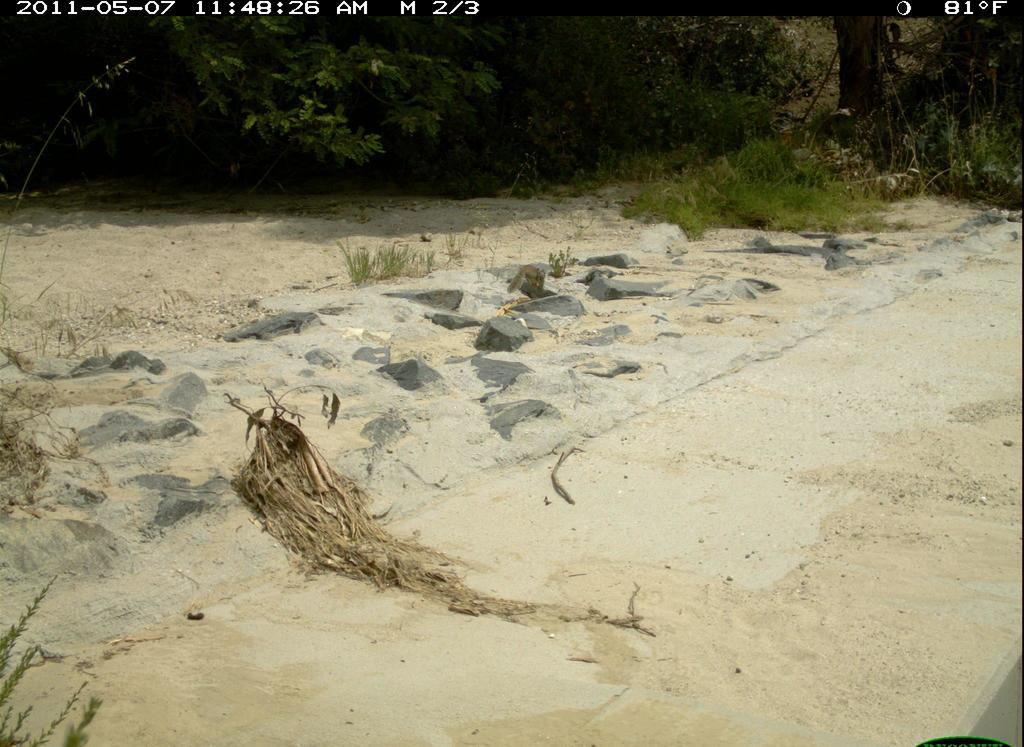squirrel: (497, 264, 550, 301)
